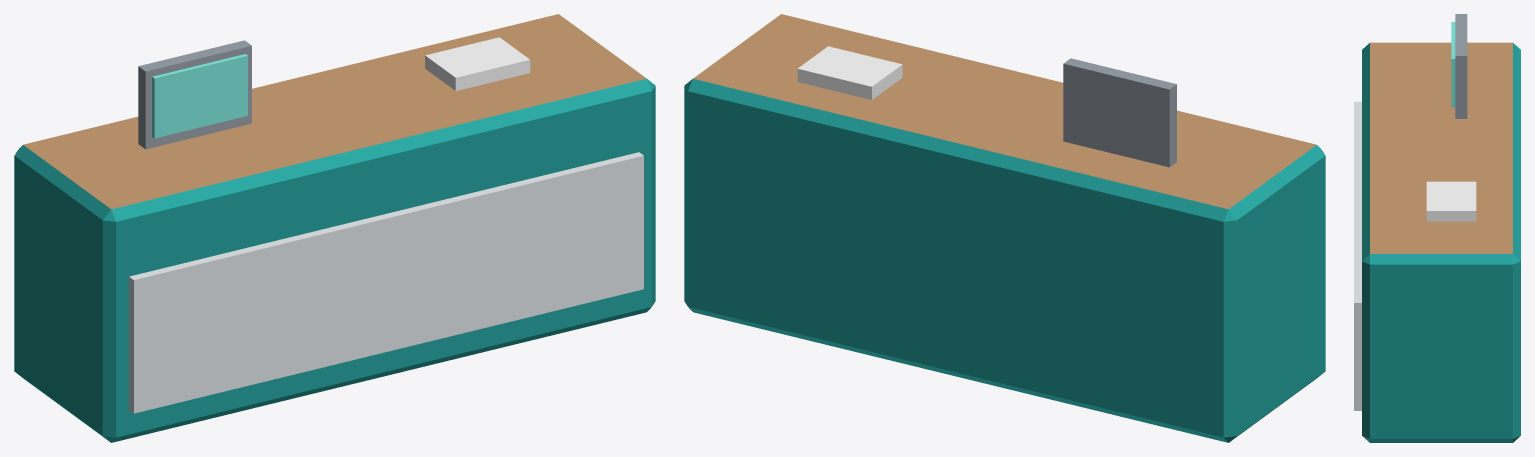
Rendered from desk.fbx.
3 renders of one model, left to right at view 1: azimuth 30°, elevation 25°; view 2: azimuth 150°, elevation 25°; view 3: azimuth 270°, elevation 25°, orthographic. The views are drawn at different scales.
Parts seen in each view (by area): view 1: desk; view 2: desk; view 3: desk.
Part boxes in pixels (x1,y1,x2,y2): desk: (14, 14, 655, 442); desk: (684, 14, 1325, 442); desk: (1354, 14, 1520, 442).
Bounding box in the file's own units: 2.6 × 1.4 × 0.84.
